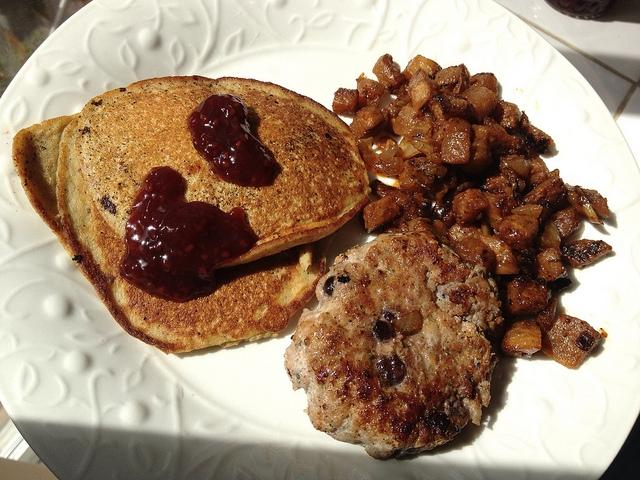potato: (458, 108, 540, 176), (448, 223, 520, 276), (540, 313, 602, 368), (504, 274, 548, 315), (564, 182, 604, 224), (498, 320, 542, 358), (431, 117, 474, 155), (456, 83, 498, 121), (561, 238, 612, 268), (520, 110, 554, 154), (522, 175, 566, 209), (362, 196, 402, 233), (452, 188, 490, 226), (428, 94, 468, 130), (372, 54, 406, 96), (498, 214, 538, 249), (407, 69, 435, 119), (479, 160, 518, 194), (398, 159, 435, 194), (532, 216, 562, 257), (535, 246, 568, 282), (391, 103, 425, 137), (348, 106, 384, 138), (402, 54, 442, 82), (355, 72, 385, 108), (550, 206, 581, 240), (482, 190, 509, 228), (492, 100, 522, 133), (440, 132, 470, 164), (360, 107, 389, 139), (434, 64, 470, 86), (332, 87, 359, 114), (470, 72, 499, 97), (387, 86, 409, 118), (372, 158, 403, 176), (402, 142, 422, 160), (528, 158, 549, 173), (423, 165, 448, 177), (355, 138, 370, 156), (386, 139, 396, 150), (394, 147, 403, 157)
